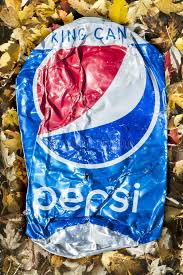can: (15, 3, 175, 263)
